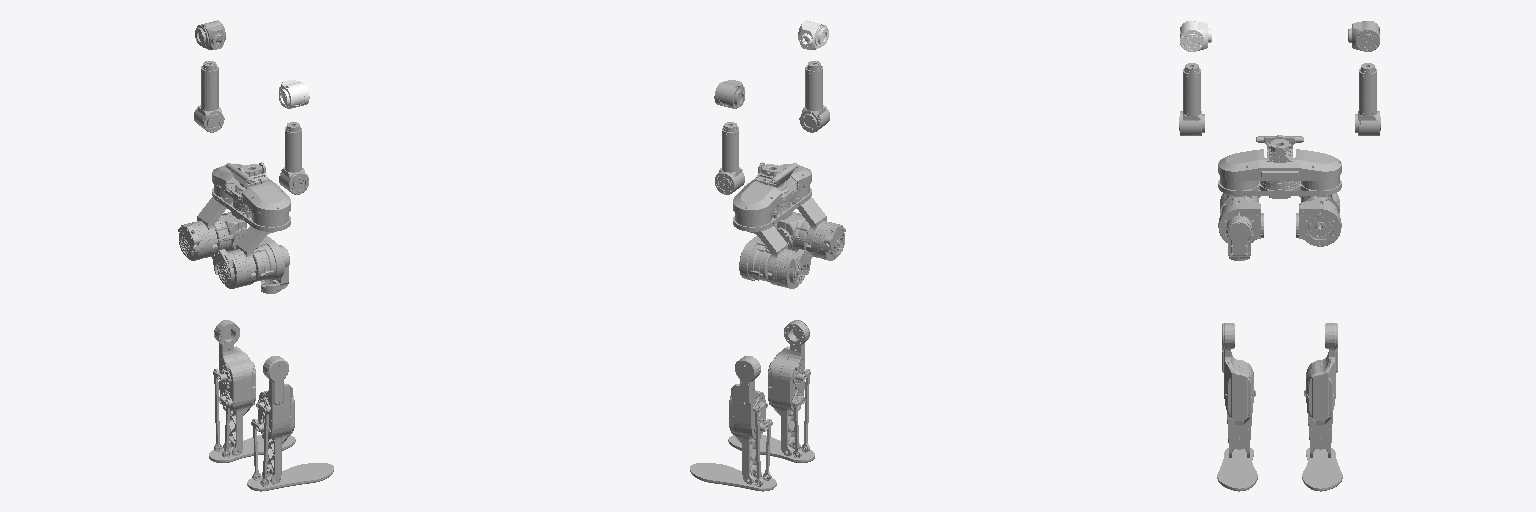
--- Facts derived from the render (not from the file) ---
The picture shows the robot from 3 angles, left to right: view 1: azimuth 30°, elevation 25°; view 2: azimuth 150°, elevation 25°; view 3: azimuth 270°, elevation 25°; orthographic projection.
Robot: elf2 — 29 links, 28 joints (12 revolute, 16 fixed); root link base_link; default pose: all joints at 0.
Visible links, largest first — view 1: l_knee_y_link, r_knee_y_link, waist_z_link, r_hip_z_link, l_hip_z_link, l_shld_z_link, r_shld_z_link, r_ankle_x_link, r_hip_y_link, l_hip_y_link, r_shld_y_link, l_shld_y_link (+1 smaller); view 2: r_knee_y_link, l_knee_y_link, waist_z_link, l_hip_z_link, r_hip_z_link, r_shld_z_link, l_shld_z_link, l_ankle_x_link, l_hip_y_link, r_hip_y_link, l_shld_y_link, r_shld_y_link (+1 smaller); view 3: waist_z_link, l_knee_y_link, r_knee_y_link, l_hip_y_link, l_shld_z_link, r_shld_z_link, l_ankle_x_link, r_ankle_x_link, r_hip_y_link, r_hip_x_link, l_shld_y_link, r_shld_y_link (+1 smaller).
Link boxes in pixels (left/top/right/bottom): l_knee_y_link: left=213, top=320, right=255, bottom=457; r_knee_y_link: left=251, top=356, right=294, bottom=486; waist_z_link: left=212, top=164, right=290, bottom=231; r_hip_z_link: left=212, top=226, right=276, bottom=288; l_hip_z_link: left=178, top=197, right=231, bottom=260; l_shld_z_link: left=194, top=61, right=224, bottom=132; r_shld_z_link: left=279, top=122, right=308, bottom=194; r_ankle_x_link: left=247, top=463, right=333, bottom=491; r_hip_y_link: left=253, top=236, right=284, bottom=281; l_hip_y_link: left=214, top=212, right=246, bottom=251; r_shld_y_link: left=279, top=80, right=309, bottom=108; l_shld_y_link: left=195, top=20, right=225, bottom=49; r_knee_y_link: left=768, top=320, right=810, bottom=457; l_knee_y_link: left=729, top=356, right=772, bottom=486; waist_z_link: left=733, top=164, right=811, bottom=231; l_hip_z_link: left=747, top=226, right=811, bottom=288; r_hip_z_link: left=792, top=197, right=845, bottom=260; r_shld_z_link: left=799, top=61, right=829, bottom=132; l_shld_z_link: left=715, top=122, right=744, bottom=194; l_ankle_x_link: left=690, top=463, right=776, bottom=491; l_hip_y_link: left=739, top=236, right=770, bottom=281; r_hip_y_link: left=777, top=212, right=809, bottom=251; l_shld_y_link: left=714, top=80, right=744, bottom=108; r_shld_y_link: left=798, top=20, right=828, bottom=49; waist_z_link: left=1218, top=149, right=1341, bottom=198; l_knee_y_link: left=1304, top=323, right=1337, bottom=457; r_knee_y_link: left=1222, top=323, right=1255, bottom=457; l_hip_y_link: left=1296, top=196, right=1341, bottom=246; l_shld_z_link: left=1355, top=63, right=1380, bottom=135; r_shld_z_link: left=1179, top=63, right=1204, bottom=135; l_ankle_x_link: left=1302, top=448, right=1342, bottom=491; r_ankle_x_link: left=1217, top=448, right=1257, bottom=491; r_hip_y_link: left=1218, top=196, right=1263, bottom=242; r_hip_x_link: left=1226, top=215, right=1252, bottom=260; l_shld_y_link: left=1348, top=21, right=1379, bottom=51; r_shld_y_link: left=1180, top=21, right=1211, bottom=51.
Bounding box of the posed robot: 0.3313 × 0.4979 × 1.19 m (x, y, z).
18 mesh visuals loaded from 26 distinct referenced files (18 binary STL); not drawn: 8 (reference not matched to a file when rendering).

The robot description file, URDF, robot "elf2":
<?xml version="1.0" encoding="utf-8"?>
<robot
  name="elf2">
  <link
    name="base_link">
    <inertial>
      <origin
        xyz="-0.002719 0.001928 0.003917"
        rpy="0 0 0" />
      <mass
        value="8.948443" />
      <inertia
        ixx="0.18746"
        ixy="-0.000182"
        ixz="-0.001384"
        iyy="0.142272"
        iyz="0.000105"
        izz="0.069523" />
    </inertial>
    <visual>
      <origin
        xyz="0 0 0"
        rpy="0 0 0" />
      <geometry>
        <mesh
          filename="../meshes/base_link.STL" />
      </geometry>
      <material
        name="">
        <color
          rgba="0.75294 0.75294 0.75294 1" />
      </material>
    </visual>
    <collision>
      <origin
        xyz="0 0 0"
        rpy="0 0 0" />
      <geometry>
        <mesh
          filename="../meshes/base_link.STL" />
      </geometry>
    </collision>
  </link>
  <link
    name="waist_y_link">
    <inertial>
      <origin
        xyz="0.0 0.0 0.0"
        rpy="0 0 0" />
      <mass
        value="0.05316739" />
      <inertia
        ixx="9.7e-06"
        ixy="-0.0"
        ixz="-0.0"
        iyy="9.7e-06"
        iyz="-0.0"
        izz="1.819e-05" />
    </inertial>
    <visual>
      <origin
        xyz="0 0 0"
        rpy="0 0 0" />
      <geometry>
        <mesh
          filename="../meshes/waist_y_link.STL" />
      </geometry>
      <material
        name="">
        <color
          rgba="0.752941176470588 0.752941176470588 0.752941176470588 1" />
      </material>
    </visual>
    <!-- <collision>
      <origin
        xyz="0 0 0"
        rpy="0 0 0" />
      <geometry>
        <mesh
          filename="../meshes/waist_y_link.STL" />
      </geometry>
    </collision> -->
  </link>
  <joint
    name="waist_y_joint"
    type="fixed">
    <origin
      xyz="0 0 -0.2087"
      rpy="0 0 0" />
    <parent
      link="base_link" />
    <child
      link="waist_y_link" />
    <axis
      xyz="0 1 0" />
    <limit
      lower="-0.523"
      upper="0.523"
      effort="50"
      velocity="20" />
  </joint>
  <link
    name="waist_x_link">
    <inertial>
      <origin
        xyz="-0.00448944 0.0 -0.02389195"
        rpy="0 0 0" />
      <mass
        value="0.21792014" />
      <inertia
        ixx="9.089e-05"
        ixy="-0.0"
        ixz="3.456e-05"
        iyy="0.0001491"
        iyz="-0.0"
        izz="0.00013001" />
    </inertial>
    <visual>
      <origin
        xyz="0 0 0"
        rpy="0 0 0" />
      <geometry>
        <mesh
          filename="../meshes/waist_x_link.STL" />
      </geometry>
      <material
        name="">
        <color
          rgba="0.752941176470588 0.752941176470588 0.752941176470588 1" />
      </material>
    </visual>
    <!-- <collision>
      <origin
        xyz="0 0 0"
        rpy="0 0 0" />
      <geometry>
        <mesh
          filename="../meshes/waist_x_link.STL" />
      </geometry>
    </collision> -->
  </link>
  <joint
    name="waist_x_joint"
    type="fixed">
    <origin
      xyz="0 0 0"
      rpy="0 0 0" />
    <parent
      link="waist_y_link" />
    <child
      link="waist_x_link" />
    <axis
      xyz="1 0 0" />
    <limit
      lower="-0.261"
      upper="0.261"
      effort="50"
      velocity="20" />
  </joint>
  <link
    name="waist_z_link">
    <inertial>
      <origin
        xyz="0.00031142 0.00082403 -0.08226891"
        rpy="0 0 0" />
      <mass
        value="3.12645393" />
      <inertia
        ixx="0.0215717"
        ixy="1.17e-06"
        ixz="-1.184e-05"
        iyy="0.00322293"
        iyz="-7.322e-05"
        izz="0.0229471" />
    </inertial>
    <visual>
      <origin
        xyz="0 0 0"
        rpy="0 0 0" />
      <geometry>
        <mesh
          filename="../meshes/waist_z_link.STL" />
      </geometry>
      <material
        name="">
        <color
          rgba="0.752941176470588 0.752941176470588 0.752941176470588 1" />
      </material>
    </visual>
    <collision>
      <origin
        xyz="0 0 0"
        rpy="0 0 0" />
      <geometry>
        <mesh
          filename="../meshes/waist_z_link.STL" />
      </geometry>
    </collision>
  </link>
  <joint
    name="waist_z_joint"
    type="fixed">
    <origin
      xyz="0 0 0"
      rpy="0 0 0" />
    <parent
      link="waist_x_link" />
    <child
      link="waist_z_link" />
    <axis
      xyz="0 0 1" />
    <limit
      lower="-1.57"
      upper="1.57"
      effort="40"
      velocity="20" />
  </joint>
  <link
    name="l_hip_z_link">
    <inertial>
      <origin
        xyz="-0.0951743 -0.00029544 0.01157699"
        rpy="0 0 0" />
      <mass
        value="1.26002534" />
      <inertia
        ixx="0.00250858"
        ixy="-1.87e-05"
        ixz="-0.00093719"
        iyy="0.00299504"
        iyz="6.14e-06"
        izz="0.00188897" />
    </inertial>
    <visual>
      <origin
        xyz="0 0 0"
        rpy="0 0 0" />
      <geometry>
        <mesh
          filename="../meshes/l_hip_z_link.STL" />
      </geometry>
      <material
        name="">
        <color
          rgba="0.752941176470588 0.752941176470588 0.752941176470588 1" />
      </material>
    </visual>
    <collision>
      <origin
        xyz="0 0 0"
        rpy="0 0 0" />
      <geometry>
        <mesh
          filename="../meshes/l_hip_z_link.STL" />
      </geometry>
    </collision>
  </link>
  <joint
    name="l_hip_z_joint"
    type="revolute">
    <origin
      xyz="0 0.1 -0.2175"
      rpy="0 0 0" />
    <parent
      link="waist_z_link" />
    <child
      link="l_hip_z_link" />
    <axis
      xyz="0 0 1" />
    <limit
      lower="-0.785"
      upper="0.785"
      effort="20"
      velocity="20" />
  </joint>
  <link
    name="l_hip_x_link">
    <inertial>
      <origin
        xyz="-0.00349545 -0.05016077 0.00015601"
        rpy="0 0 0" />
      <mass
        value="1.75826055" />
      <inertia
        ixx="0.00145734"
        ixy="0.000276"
        ixz="2.571e-05"
        iyy="0.00183603"
        iyz="-4e-08"
        izz="0.00181117" />
    </inertial>
    <visual>
      <origin
        xyz="0 0 0"
        rpy="0 0 0" />
      <geometry>
        <mesh
          filename="../meshes/l_hip_x_link.STL" />
      </geometry>
      <material
        name="">
        <color
          rgba="0.752941176470588 0.752941176470588 0.752941176470588 1" />
      </material>
    </visual>
    <!-- <collision>
      <origin
        xyz="0 0 0"
        rpy="0 0 0" />
      <geometry>
        <mesh
          filename="../meshes/l_hip_x_link.STL" />
      </geometry>
    </collision> -->
  </link>
  <joint
    name="l_hip_x_joint"
    type="revolute">
    <origin
      xyz="0 0 0"
      rpy="0 0 0" />
    <parent
      link="l_hip_z_link" />
    <child
      link="l_hip_x_link" />
    <axis
      xyz="1 0 0" />
    <limit
      lower="-0.523"
      upper="0.785"
      effort="40"
      velocity="20" />
  </joint>
  <link
    name="l_hip_y_link">
    <inertial>
      <origin
        xyz="0.00237237 0.02408075 -0.04874487"
        rpy="0 0 0" />
      <mass
        value="2.66296335" />
      <inertia
        ixx="0.02678784"
        ixy="0.00016594"
        ixz="0.00075939"
        iyy="0.02619934"
        iyz="-0.00371457"
        izz="0.0045187" />
    </inertial>
    <visual>
      <origin
        xyz="0 0 0"
        rpy="0 0 0" />
      <geometry>
        <mesh
          filename="../meshes/l_hip_y_link.STL" />
      </geometry>
      <material
        name="">
        <color
          rgba="0.752941176470588 0.752941176470588 0.752941176470588 1" />
      </material>
    </visual>
    <!-- <collision>
      <origin
        xyz="0 0 0"
        rpy="0 0 0" />
      <geometry>
        <mesh
          filename="../meshes/l_hip_y_link.STL" />
      </geometry>
    </collision> -->
  </link>
  <joint
    name="l_hip_y_joint"
    type="revolute">
    <origin
      xyz="0 0 0"
      rpy="0 0 0" />
    <parent
      link="l_hip_x_link" />
    <child
      link="l_hip_y_link" />
    <axis
      xyz="0 1 0" />
    <limit
      lower="-2"
      upper="1"
      effort="100"
      velocity="20" />
  </joint>
  <link
    name="l_knee_y_link">
    <inertial>
      <origin
        xyz="0.00711393 -0.00031499 -0.10977806"
        rpy="0 0 0" />
      <mass
        value="1.63072153" />
      <inertia
        ixx="0.01042782"
        ixy="1.62e-06"
        ixz="-0.00054999"
        iyy="0.01018545"
        iyz="-0.00015956"
        izz="0.00140744" />
    </inertial>
    <visual>
      <origin
        xyz="0 0 0"
        rpy="0 0 0" />
      <geometry>
        <mesh
          filename="../meshes/l_knee_y_link.STL" />
      </geometry>
      <material
        name="">
        <color
          rgba="0.752941176470588 0.752941176470588 0.752941176470588 1" />
      </material>
    </visual>
    <collision>
      <origin
        xyz="0 0 0"
        rpy="0 0 0" />
      <geometry>
        <mesh
          filename="../meshes/l_knee_y_link.STL" />
      </geometry>
    </collision>
  </link>
  <joint
    name="l_knee_y_joint"
    type="revolute">
    <origin
      xyz="0 0 -0.3"
      rpy="0 0 0" />
    <parent
      link="l_hip_y_link" />
    <child
      link="l_knee_y_link" />
    <axis
      xyz="0 1 0" />
    <limit
      lower="0"
      upper="2.355"
      effort="120"
      velocity="20" />
  </joint>
  <link
    name="l_ankle_y_link">
    <inertial>
      <origin
        xyz="0.0 0.0 -0.00046563"
        rpy="0 0 0" />
      <mass
        value="0.01206963" />
      <inertia
        ixx="2.89e-06"
        ixy="-0.0"
        ixz="-0.0"
        iyy="3.4e-07"
        iyz="-0.0"
        izz="3.01e-06" />
    </inertial>
    <visual>
      <origin
        xyz="0 0 0"
        rpy="0 0 0" />
      <geometry>
        <mesh
          filename="../meshes/l_ankle_y_link.STL" />
      </geometry>
      <material
        name="">
        <color
          rgba="0.752941176470588 0.752941176470588 0.752941176470588 1" />
      </material>
    </visual>
    <!-- <collision>
      <origin
        xyz="0 0 0"
        rpy="0 0 0" />
      <geometry>
        <mesh
          filename="../meshes/l_ankle_y_link.STL" />
      </geometry>
    </collision> -->
  </link>
  <joint
    name="l_ankle_y_joint"
    type="revolute">
    <origin
      xyz="0 0 -0.3"
      rpy="0 0 0" />
    <parent
      link="l_knee_y_link" />
    <child
      link="l_ankle_y_link" />
    <axis
      xyz="0 1 0" />
    <limit
      lower="-2"
      upper="2"
      effort="50"
      velocity="20" />
  </joint>
  <link
    name="l_ankle_x_link">
    <inertial>
      <origin
        xyz="-0.00088171 0.0 -0.02245193"
        rpy="0 0 0" />
      <mass
        value="0.27064154" />
      <inertia
        ixx="0.00014549"
        ixy="-0.0"
        ixz="5.53e-06"
        iyy="0.00071745"
        iyz="-0.0"
        izz="0.00081666" />
    </inertial>
    <visual>
      <origin
        xyz="0 0 -0.03"
        rpy="0 0 0" />
      <geometry>
        <mesh
          filename="../meshes/l_hum_foot.STL" />
      </geometry>
      <material
        name="">
        <color
          rgba="0.752941176470588 0.752941176470588 0.752941176470588 1" />
      </material>
    </visual>
    <collision>
      <origin
        xyz="0 0 -0.03"
        rpy="0 0 0" />
      <geometry>
        <mesh
          filename="../meshes/l_hum_foot.STL" />
      </geometry>
    </collision>
  </link>
  <joint
    name="l_ankle_x_joint"
    type="revolute">
    <origin
      xyz="0 0 0"
      rpy="0 0 0" />
    <parent
      link="l_ankle_y_link" />
    <child
      link="l_ankle_x_link" />
    <axis
      xyz="1 0 0" />
    <limit
      lower="-0.349"
      upper="0.349"
      effort="20"
      velocity="20" />
  </joint>
  <link
    name="r_hip_z_link">
    <inertial>
      <origin
        xyz="-0.0951743 0.00029543 0.01157699"
        rpy="0 0 0" />
      <mass
        value="1.26002506" />
      <inertia
        ixx="0.00250858"
        ixy="1.87e-05"
        ixz="-0.00093719"
        iyy="0.00299504"
        iyz="-6.14e-06"
        izz="0.00188897" />
    </inertial>
    <visual>
      <origin
        xyz="0 0 0"
        rpy="0 0 0" />
      <geometry>
        <mesh
          filename="../meshes/r_hip_z_link.STL" />
      </geometry>
      <material
        name="">
        <color
          rgba="0.752941176470588 0.752941176470588 0.752941176470588 1" />
      </material>
    </visual>
    <collision>
      <origin
        xyz="0 0 0"
        rpy="0 0 0" />
      <geometry>
        <mesh
          filename="../meshes/r_hip_z_link.STL" />
      </geometry>
    </collision>
  </link>
  <joint
    name="r_hip_z_joint"
    type="revolute">
    <origin
      xyz="0 -0.1 -0.2175"
      rpy="0 0 0" />
    <parent
      link="waist_z_link" />
    <child
      link="r_hip_z_link" />
    <axis
      xyz="0 0 1" />
    <limit
      lower="-0.785"
      upper="0.785"
      effort="20"
      velocity="20" />
  </joint>
  <link
    name="r_hip_x_link">
    <inertial>
      <origin
        xyz="-0.00349545 0.05016077 0.000156"
        rpy="0 0 0" />
      <mass
        value="1.75825984" />
      <inertia
        ixx="0.00145734"
        ixy="-0.000276"
        ixz="2.571e-05"
        iyy="0.00183603"
        iyz="4e-08"
        izz="0.00181117" />
    </inertial>
    <visual>
      <origin
        xyz="0 0 0"
        rpy="0 0 0" />
      <geometry>
        <mesh
          filename="../meshes/r_hip_x_link.STL" />
      </geometry>
      <material
        name="">
        <color
          rgba="0.752941176470588 0.752941176470588 0.752941176470588 1" />
      </material>
    </visual>
    <!-- <collision>
      <origin
        xyz="0 0 0"
        rpy="0 0 0" />
      <geometry>
        <mesh
          filename="../meshes/r_hip_x_link.STL" />
      </geometry>
    </collision> -->
  </link>
  <joint
    name="r_hip_x_joint"
    type="revolute">
    <origin
      xyz="0 0 0"
      rpy="0 0 0" />
    <parent
      link="r_hip_z_link" />
    <child
      link="r_hip_x_link" />
    <axis
      xyz="1 0 0" />
    <limit
      lower="-0.785"
      upper="0.523"
      effort="40"
      velocity="20" />
  </joint>
  <link
    name="r_hip_y_link">
    <inertial>
      <origin
        xyz="0.00237237 -0.02408076 -0.04874488"
        rpy="0 0 0" />
      <mass
        value="2.66296401" />
      <inertia
        ixx="0.02678786"
        ixy="-0.00016594"
        ixz="0.00075939"
        iyy="0.02619935"
        iyz="0.00371458"
        izz="0.0045187" />
    </inertial>
    <visual>
      <origin
        xyz="0 0 0"
        rpy="0 0 0" />
      <geometry>
        <mesh
          filename="../meshes/r_hip_y_link.STL" />
      </geometry>
      <material
        name="">
        <color
          rgba="0.752941176470588 0.752941176470588 0.752941176470588 1" />
      </material>
    </visual>
    <!-- <collision>
      <origin
        xyz="0 0 0"
        rpy="0 0 0" />
      <geometry>
        <mesh
          filename="../meshes/r_hip_y_link.STL" />
      </geometry>
    </collision> -->
  </link>
  <joint
    name="r_hip_y_joint"
    type="revolute">
    <origin
      xyz="0 0 0"
      rpy="0 0 0" />
    <parent
      link="r_hip_x_link" />
    <child
      link="r_hip_y_link" />
    <axis
      xyz="0 1 0" />
    <limit
      lower="-2"
      upper="1"
      effort="100"
      velocity="20" />
  </joint>
  <link
    name="r_knee_y_link">
    <inertial>
      <origin
        xyz="0.00711396 0.00031502 -0.109778"
        rpy="0 0 0" />
      <mass
        value="1.63072158" />
      <inertia
        ixx="0.01042781"
        ixy="-1.62e-06"
        ixz="-0.00054998"
        iyy="0.01018544"
        iyz="0.00015955"
        izz="0.00140744" />
    </inertial>
    <visual>
      <origin
        xyz="0 0 0"
        rpy="0 0 0" />
      <geometry>
        <mesh
          filename="../meshes/r_knee_y_link.STL" />
      </geometry>
      <material
        name="">
        <color
          rgba="0.752941176470588 0.752941176470588 0.752941176470588 1" />
      </material>
    </visual>
    <collision>
      <origin
        xyz="0 0 0"
        rpy="0 0 0" />
      <geometry>
        <mesh
          filename="../meshes/r_knee_y_link.STL" />
      </geometry>
    </collision>
  </link>
  <joint
    name="r_knee_y_joint"
    type="revolute">
    <origin
      xyz="0 0 -0.3"
      rpy="0 0 0" />
    <parent
      link="r_hip_y_link" />
    <child
      link="r_knee_y_link" />
    <axis
      xyz="0 1 0" />
    <limit
      lower="0"
      upper="2.355"
      effort="120"
      velocity="20" />
  </joint>
  <link
    name="r_ankle_y_link">
    <inertial>
      <origin
        xyz="0.0 0.0 -0.00046563"
        rpy="0 0 0" />
      <mass
        value="0.01206963" />
      <inertia
        ixx="2.89e-06"
        ixy="-0.0"
        ixz="-0.0"
        iyy="3.4e-07"
        iyz="-0.0"
        izz="3.01e-06" />
    </inertial>
    <visual>
      <origin
        xyz="0 0 0"
        rpy="0 0 0" />
      <geometry>
        <mesh
          filename="../meshes/r_ankle_y_link.STL" />
      </geometry>
      <material
        name="">
        <color
          rgba="0.752941176470588 0.752941176470588 0.752941176470588 1" />
      </material>
    </visual>
    <!-- <collision>
      <origin
        xyz="0 0 0"
        rpy="0 0 0" />
      <geometry>
        <mesh
          filename="../meshes/r_ankle_y_link.STL" />
      </geometry>
    </collision> -->
  </link>
  <joint
    name="r_ankle_y_joint"
    type="revolute">
    <origin
      xyz="0 0 -0.3"
      rpy="0 0 0" />
    <parent
      link="r_knee_y_link" />
    <child
      link="r_ankle_y_link" />
    <axis
      xyz="0 1 0" />
    <limit
      lower="-2"
      upper="2"
      effort="50"
      velocity="20" />
  </joint>
  <link
    name="r_ankle_x_link">
    <inertial>
      <origin
        xyz="-0.00088171 0.0 -0.02245193"
        rpy="0 0 0" />
      <mass
        value="0.27064154" />
      <inertia
        ixx="0.00014549"
        ixy="-0.0"
        ixz="5.53e-06"
        iyy="0.00071745"
        iyz="-0.0"
        izz="0.00081666" />
    </inertial>
    <visual>
      <origin
        xyz="0 0 -0.03"
        rpy="0 0 0" />
      <geometry>
        <mesh
          filename="../meshes/r_hum_foot.STL" />
      </geometry>
      <material
        name="">
        <color
          rgba="0.752941176470588 0.752941176470588 0.752941176470588 1" />
      </material>
    </visual>
    <collision>
      <origin
        xyz="0 0 -0.03"
        rpy="0 0 0" />
      <geometry>
        <mesh
          filename="../meshes/r_hum_foot.STL" />
      </geometry>
    </collision>
  </link>
  <joint
    name="r_ankle_x_joint"
    type="revolute">
    <origin
      xyz="0 0 0"
      rpy="0 0 0" />
    <parent
      link="r_ankle_y_link" />
    <child
      link="r_ankle_x_link" />
    <axis
      xyz="1 0 0" />
    <limit
      lower="-0.349"
      upper="0.349"
      effort="20"
      velocity="20" />
  </joint>
  <link
    name="l_shld_y_link">
    <inertial>
      <origin
        xyz="0.00068297 -0.00449372 2.22e-06"
        rpy="0 0 0" />
      <mass
        value="0.53804971" />
      <inertia
        ixx="0.00030648"
        ixy="4.03e-06"
        ixz="2e-08"
        iyy="0.00029153"
        iyz="1e-07"
        izz="0.00032312" />
    </inertial>
    <visual>
      <origin
        xyz="0 0 0"
        rpy="0 0 0" />
      <geometry>
        <mesh
          filename="../meshes/l_shld_y_link.STL" />
      </geometry>
      <material
        name="">
        <color
          rgba="0.752941176470588 0.752941176470588 0.752941176470588 1" />
      </material>
    </visual>
    <!-- <collision>
      <origin
        xyz="0 0 0"
        rpy="0 0 0" />
      <geometry>
        <mesh
          filename="../meshes/l_shld_y_link.STL" />
      </geometry>
    </collision> -->
  </link>
  <joint
    name="l_shld_y_joint"
    type="fixed">
    <origin
      xyz="0 0.21705 0.09205"
      rpy="0 0 0" />
    <parent
      link="base_link" />
    <child
      link="l_shld_y_link" />
    <axis
      xyz="0 1 0" />
    <limit
      lower="-2"
      upper="2"
      effort="27"
      velocity="20" />
  </joint>
  <link
    name="l_shld_x_link">
    <inertial>
      <origin
        xyz="-2.047e-05 5.316e-05 -0.06162654"
        rpy="0 0 0" />
      <mass
        value="0.48847489" />
      <inertia
        ixx="0.00027194"
        ixy="4e-08"
        ixz="-5.4e-07"
        iyy="0.00033709"
        iyz="-5.4e-07"
        izz="0.0002884" />
    </inertial>
    <visual>
      <origin
        xyz="0 0 0"
        rpy="0 0 0" />
      <geometry>
        <mesh
          filename="../meshes/l_shld_x_link.STL" />
      </geometry>
      <material
        name="">
        <color
          rgba="0.752941176470588 0.752941176470588 0.752941176470588 1" />
      </material>
    </visual>
    <!-- <collision>
      <origin
        xyz="0 0 0"
        rpy="0 0 0" />
      <geometry>
        <mesh
          filename="../meshes/l_shld_x_link.STL" />
      </geometry>
    </collision> -->
  </link>
  <joint
    name="l_shld_x_joint"
    type="fixed">
    <origin
      xyz="0 0 0"
      rpy="0 0 0" />
    <parent
      link="l_shld_y_link" />
    <child
      link="l_shld_x_link" />
    <axis
      xyz="1 0 0" />
    <limit
      lower="-0.5"
      upper="1.57"
      effort="27"
      velocity="20" />
  </joint>
  <link
    name="l_shld_z_link">
    <inertial>
      <origin
        xyz="4.164e-05 0.00022669 -0.2212782"
        rpy="0 0 0" />
      <mass
        value="0.59309528" />
      <inertia
        ixx="0.00136573"
        ixy="5.3e-07"
        ixz="-1e-08"
        iyy="0.00133989"
        iyz="1.22e-06"
        izz="0.00030342" />
    </inertial>
    <visual>
      <origin
        xyz="0 0 0"
        rpy="0 0 0" />
      <geometry>
        <mesh
          filename="../meshes/l_shld_z_link.STL" />
      </geometry>
      <material
        name="">
        <color
          rgba="0.752941176470588 0.752941176470588 0.752941176470588 1" />
      </material>
    </visual>
    <collision>
      <origin
        xyz="0 0 0"
        rpy="0 0 0" />
      <geometry>
        <mesh
          filename="../meshes/l_shld_z_link.STL" />
      </geometry>
    </collision>
  </link>
  <joint
    name="l_shld_z_joint"
    type="fixed">
    <origin
      xyz="0 0 0"
      rpy="0 0 0" />
    <parent
      link="l_shld_x_link" />
    <child
      link="l_shld_z_link" />
    <axis
      xyz="0 0 1" />
    <limit
      lower="-0.785"
      upper="0.785"
      effort="7"
      velocity="20" />
  </joint>
  <link
    name="l_elb_y_link">
    <inertial>
      <origin
        xyz="5.192e-05 1.999e-05 -0.08561189"
        rpy="0 0 0" />
      <mass
        value="0.50005725" />
      <inertia
        ixx="0.00043713"
        ixy="-4e-08"
        ixz="-4.9e-07"
        iyy="0.00036043"
        iyz="6.3e-07"
        izz="0.00030266" />
    </inertial>
    <visual>
      <origin
        xyz="0 0 0"
        rpy="0 0 0" />
      <geometry>
        <mesh
          filename="../meshes/l_elb_y_link.STL" />
      </geometry>
      <material
        name="">
        <color
          rgba="0.752941176470588 0.752941176470588 0.752941176470588 1" />
      </material>
    </visual>
    <collision>
      <origin
        xyz="0 0 0"
        rpy="0 0 0" />
      <geometry>
        <mesh
          filename="../meshes/l_elb_y_link.STL" />
      </geometry>
    </collision>
  </link>
  <joint
    name="l_elb_y_joint"
    type="fixed">
    <origin
      xyz="0 0 -0.24"
      rpy="0 0 0" />
    <parent
      link="l_shld_z_link" />
    <child
      link="l_elb_y_link" />
    <axis
      xyz="0 1 0" />
    <limit
      lower="-2.355"
      upper="0.5"
      effort="27"
      velocity="20" />
  </joint>
  <link
    name="l_elb_z_link">
    <inertial>
      <origin
        xyz="1.97e-06 -1.756e-05 -0.18282539"
        rpy="0 0 0" />
      <mass
        value="0.13457416" />
      <inertia
        ixx="0.00040001"
        ixy="-0.0"
        ixz="-2e-08"
        iyy="0.00039996"
        iyz="1.5e-07"
        izz="5.662e-05" />
    </inertial>
    <visual>
      <origin
        xyz="0 0 0"
        rpy="0 0 0" />
      <geometry>
        <mesh
          filename="../meshes/l_elb_z_link.STL" />
      </geometry>
      <material
        name="">
        <color
          rgba="0.752941176470588 0.752941176470588 0.752941176470588 1" />
      </material>
    </visual>
    <collision>
      <origin
        xyz="0 0 0"
        rpy="0 0 0" />
      <geometry>
        <mesh
          filename="../meshes/l_elb_z_link.STL" />
      </geometry>
    </collision>
  </link>
  <joint
    name="l_elb_z_joint"
    type="fixed">
    <origin
      xyz="0 0 0"
      rpy="0 0 0" />
    <parent
      link="l_elb_y_link" />
    <child
      link="l_elb_z_link" />
    <axis
      xyz="0 0 1" />
    <limit
      lower="-0.785"
      upper="0.785"
      effort="7"
      velocity="20" />
  </joint>
  <link
    name="r_shld_y_link">
    <inertial>
      <origin
        xyz="0.00068297 0.00449372 -2.22e-06"
        rpy="0 0 0" />
      <mass
        value="0.53804971" />
      <inertia
        ixx="0.00030648"
        ixy="-4.03e-06"
        ixz="-2e-08"
        iyy="0.00029153"
        iyz="1e-07"
        izz="0.00032312" />
    </inertial>
    <visual>
      <origin
        xyz="0 0 0"
        rpy="0 0 0" />
      <geometry>
        <mesh
          filename="../meshes/r_shld_y_link.STL" />
      </geometry>
      <material
        name="">
        <color
          rgba="1 1 1 1" />
      </material>
    </visual>
    <!-- <collision>
      <origin
        xyz="0 0 0"
        rpy="0 0 0" />
      <geometry>
        <mesh
          filename="../meshes/r_shld_y_link.STL" />
      </geometry>
    </collision> -->
  </link>
  <joint
    name="r_shld_y_joint"
    type="fixed">
    <origin
      xyz="0 -0.21705 0.09205"
      rpy="0 0 0" />
    <parent
      link="base_link" />
    <child
      link="r_shld_y_link" />
    <axis
      xyz="0 1 0" />
    <limit
      lower="-2"
      upper="2"
      effort="27"
      velocity="20" />
  </joint>
  <link
    name="r_shld_x_link">
    <inertial>
      <origin
        xyz="2.047e-05 -5.316e-05 -0.06162654"
        rpy="0 0 0" />
      <mass
        value="0.48847489" />
      <inertia
        ixx="0.00027194"
        ixy="4e-08"
        ixz="5.4e-07"
        iyy="0.00033709"
        iyz="5.4e-07"
        izz="0.0002884" />
    </inertial>
    <visual>
      <origin
        xyz="0 0 0"
        rpy="0 0 0" />
      <geometry>
        <mesh
          filename="../meshes/r_shld_x_link.STL" />
      </geometry>
      <material
        name="">
        <color
          rgba="0.752941176470588 0.752941176470588 0.752941176470588 1" />
      </material>
    </visual>
    <!-- <collision>
      <origin
        xyz="0 0 0"
        rpy="0 0 0" />
      <geometry>
        <mesh
          filename="../meshes/r_shld_x_link.STL" />
      </geometry>
    </collision> -->
  </link>
  <joint
    name="r_shld_x_joint"
    type="fixed">
    <origin
      xyz="0 0 0"
      rpy="0 0 0" />
    <parent
      link="r_shld_y_link" />
    <child
      link="r_shld_x_link" />
    <axis
      xyz="1 0 0" />
    <limit
      lower="-1.57"
      upper="0.5"
      effort="27"
      velocity="20" />
  </joint>
  <link
    name="r_shld_z_link">
    <inertial>
      <origin
        xyz="-4.164e-05 -0.00022669 -0.2212782"
        rpy="0 0 0" />
      <mass
        value="0.59309528" />
      <inertia
        ixx="0.00136573"
        ixy="5.3e-07"
        ixz="1e-08"
        iyy="0.00133989"
        iyz="-1.22e-06"
        izz="0.00030342" />
    </inertial>
    <visual>
      <origin
        xyz="0 0 0"
        rpy="0 0 0" />
      <geometry>
        <mesh
          filename="../meshes/r_shld_z_link.STL" />
      </geometry>
      <material
        name="">
        <color
          rgba="0.752941176470588 0.752941176470588 0.752941176470588 1" />
      </material>
    </visual>
    <collision>
      <origin
        xyz="0 0 0"
        rpy="0 0 0" />
      <geometry>
        <mesh
          filename="../meshes/r_shld_z_link.STL" />
      </geometry>
    </collision>
  </link>
  <joint
    name="r_shld_z_joint"
    type="fixed">
    <origin
      xyz="0 0 0"
      rpy="0 0 0" />
    <parent
      link="r_shld_x_link" />
    <child
      link="r_shld_z_link" />
    <axis
      xyz="0 0 1" />
    <limit
      lower="-0.785"
      upper="0.785"
      effort="7"
      velocity="20" />
  </joint>
  <link
    name="r_elb_y_link">
    <inertial>
      <origin
        xyz="-5.192e-05 -1.999e-05 -0.08561189"
        rpy="0 0 0" />
      <mass
        value="0.50005725" />
      <inertia
        ixx="0.00043713"
        ixy="-4e-08"
        ixz="4.9e-07"
        iyy="0.00036043"
        iyz="-6.3e-07"
        izz="0.00030266" />
    </inertial>
    <visual>
      <origin
        xyz="0 0 0"
        rpy="0 0 0" />
      <geometry>
        <mesh
          filename="../meshes/r_elb_y_link.STL" />
      </geometry>
      <material
        name="">
        <color
          rgba="0.752941176470588 0.752941176470588 0.752941176470588 1" />
      </material>
    </visual>
    <collision>
      <origin
        xyz="0 0 0"
        rpy="0 0 0" />
      <geometry>
        <mesh
          filename="../meshes/r_elb_y_link.STL" />
      </geometry>
    </collision>
  </link>
  <joint
    name="r_elb_y_joint"
    type="fixed">
    <origin
      xyz="0 0 -0.24"
      rpy="0 0 0" />
    <parent
      link="r_shld_z_link" />
    <child
      link="r_elb_y_link" />
    <axis
      xyz="0 1 0" />
    <limit
      lower="-2.355"
      upper="0.5"
      effort="27"
      velocity="20" />
  </joint>
  <link
    name="r_elb_z_link">
    <inertial>
      <origin
        xyz="-1.97e-06 1.756e-05 -0.18282539"
        rpy="0 0 0" />
      <mass
        value="0.13457416" />
      <inertia
        ixx="0.00040001"
        ixy="-0.0"
        ixz="2e-08"
        iyy="0.00039996"
        iyz="-1.5e-07"
        izz="5.662e-05" />
    </inertial>
    <visual>
      <origin
        xyz="0 0 0"
        rpy="0 0 0" />
      <geometry>
        <mesh
          filename="../meshes/r_elb_z_link.STL" />
      </geometry>
      <material
        name="">
        <color
          rgba="0.752941176470588 0.752941176470588 0.752941176470588 1" />
      </material>
    </visual>
    <collision>
      <origin
        xyz="0 0 0"
        rpy="0 0 0" />
      <geometry>
        <mesh
          filename="../meshes/r_elb_z_link.STL" />
      </geometry>
    </collision>
  </link>
  <joint
    name="r_elb_z_joint"
    type="fixed">
    <origin
      xyz="0 0 0"
      rpy="0 0 0" />
    <parent
      link="r_elb_y_link" />
    <child
      link="r_elb_z_link" />
    <axis
      xyz="0 0 1" />
    <limit
      lower="-0.785"
      upper="0.785"
      effort="7"
      velocity="20" />
  </joint>
  <link
    name="d435i">
  </link>
  <joint
    name="d435i_joint"
    type="fixed">
    <origin
      xyz="0.03255 0 0.2818"
      rpy="-1.5708 0 -1.5708" />
    <parent
      link="base_link" />
    <child
      link="d435i" />
    <axis
      xyz="0 0 0" />
  </joint>
  <link
    name="mid360">
  </link>
  <joint
    name="mid360_joint"
    type="fixed">
    <origin
      xyz="0 0 0.23988"
      rpy="3.1416 0 1.5708" />
    <parent
      link="base_link" />
    <child
      link="mid360" />
    <axis
      xyz="0 0 0" />
  </joint>

  <link name="mid360_link"/>
  <joint name="mid360_joint" type="fixed">
    <origin xyz="0 0 0.2188" rpy="3.1416 0 1.5708" />
    <parent link="base_link" />
    <child link="mid360_link" />
    <axis xyz="0 0 0" />
  </joint>  

</robot>
